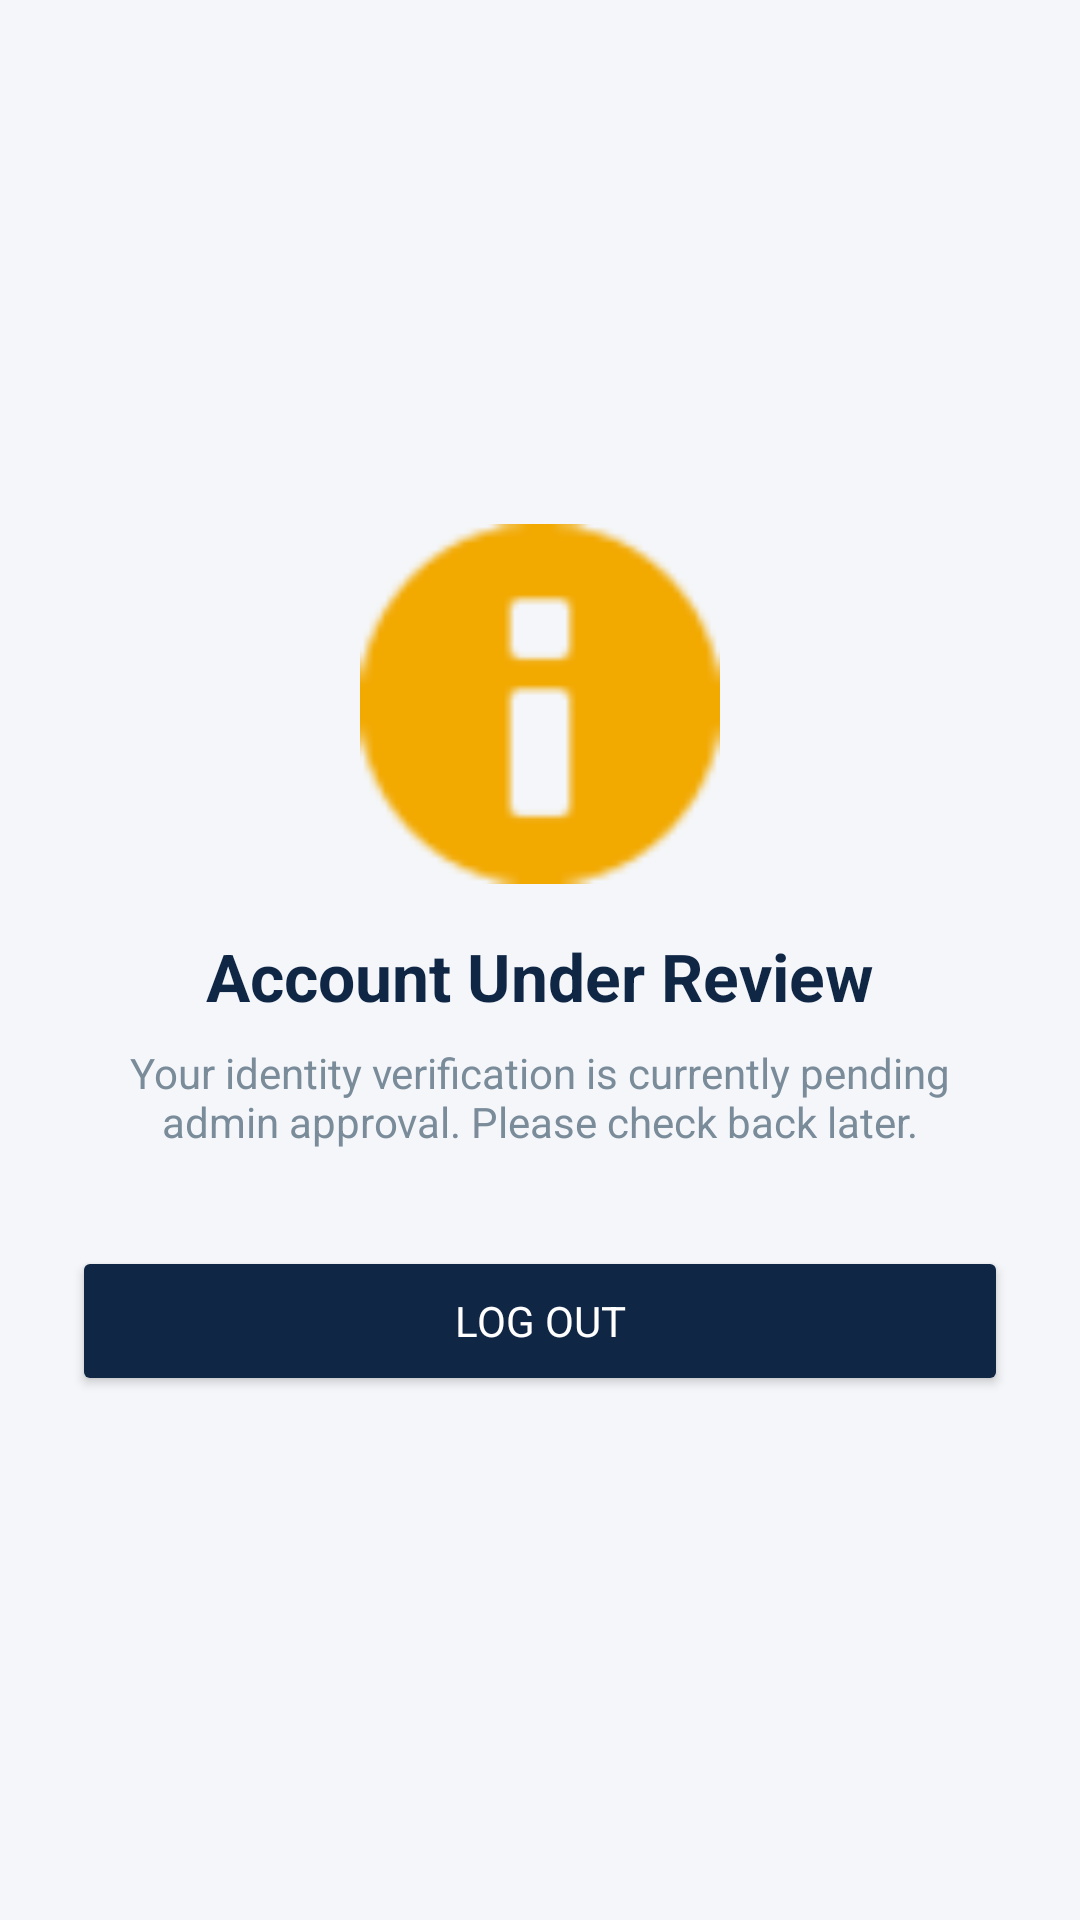

Icons on this 1080px×1920px Android screen, each with its box as (x1, y1, x2, y2):
info: (360, 524, 720, 884)
